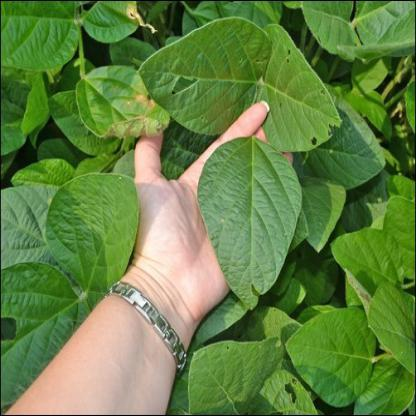Soyabean leaf: (190, 132, 308, 314), (139, 13, 275, 146), (256, 14, 346, 162)
